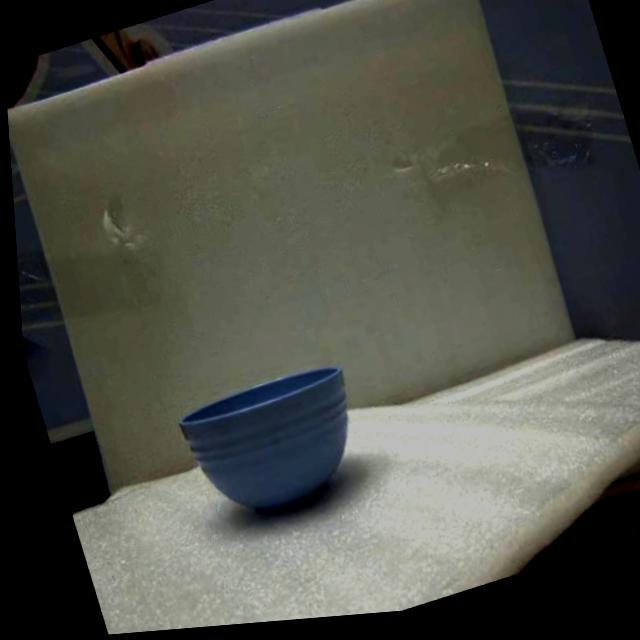Bowl: (181, 369, 348, 511)
